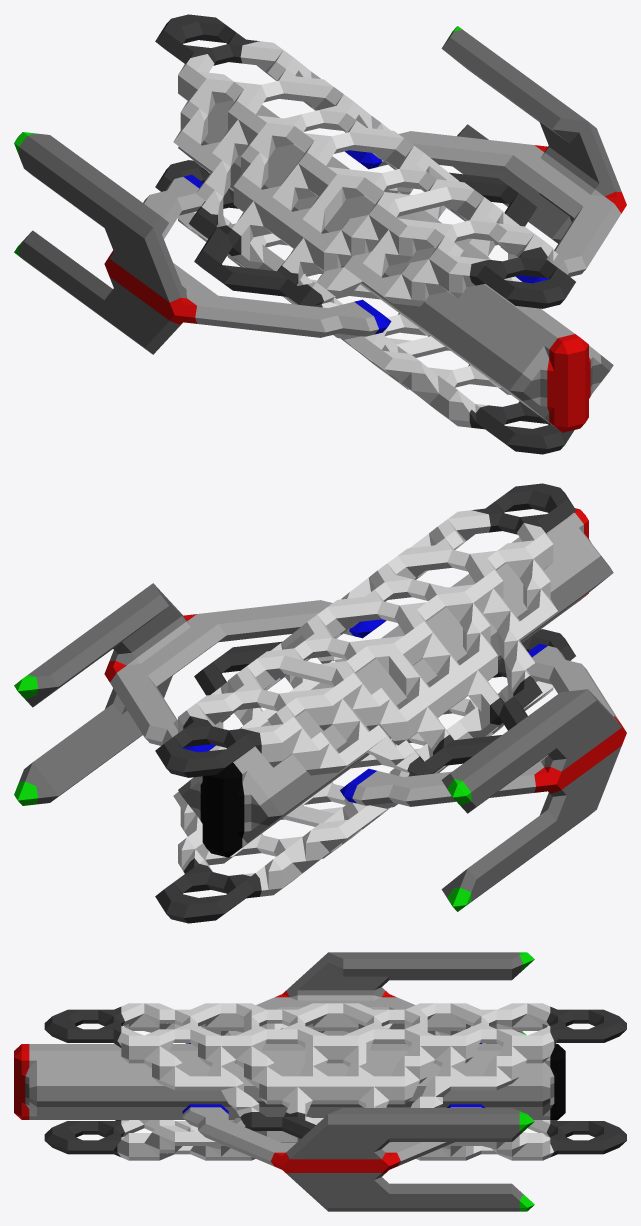
Rendered from ship_auron_cruiser_specialist.fbx.
The picture shows the model from 3 angles, top to bottom: view 1: azimuth 30°, elevation 25°; view 2: azimuth 150°, elevation 25°; view 3: azimuth 270°, elevation 25°; orthographic projection. The views are drawn at different scales.
Parts seen in each view (by area): view 1: ship_auron_cruiser_specialist; view 2: ship_auron_cruiser_specialist; view 3: ship_auron_cruiser_specialist.
Boxes of the visible parts, bbox=[...] form: ship_auron_cruiser_specialist: bbox=[14, 14, 626, 454]; ship_auron_cruiser_specialist: bbox=[14, 483, 626, 923]; ship_auron_cruiser_specialist: bbox=[14, 952, 626, 1211].
Size of the model in its own units: 2600 by 900 by 4000.
